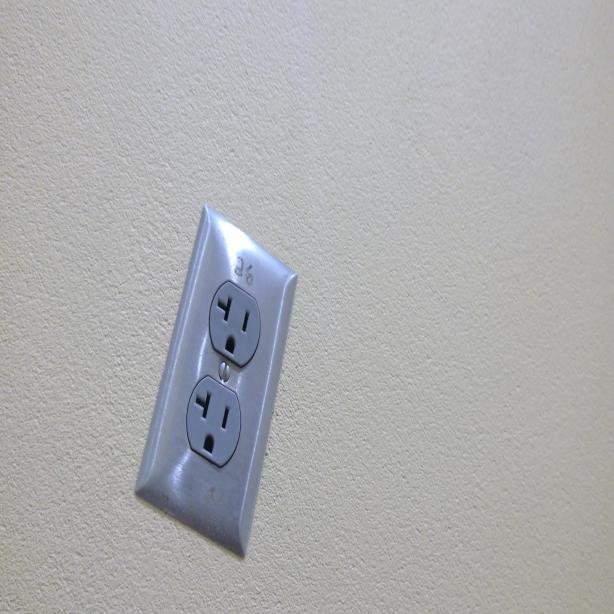typeb: (187, 375, 241, 476), (206, 280, 262, 367)
